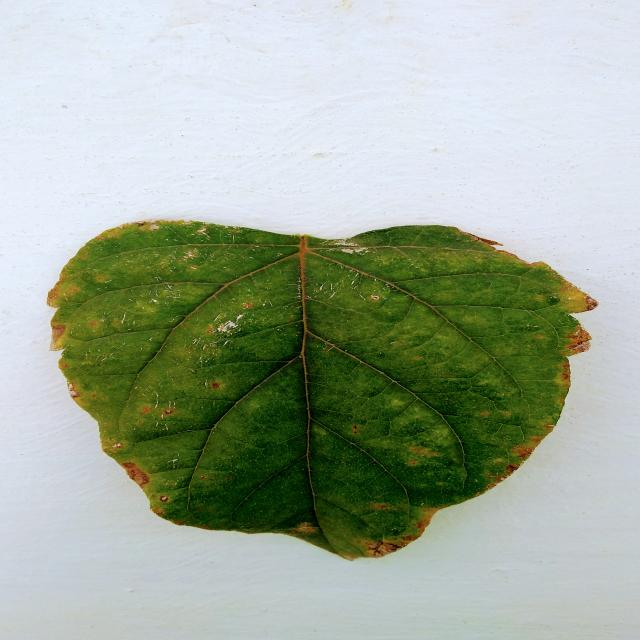Parijatha: (49, 221, 596, 559)
